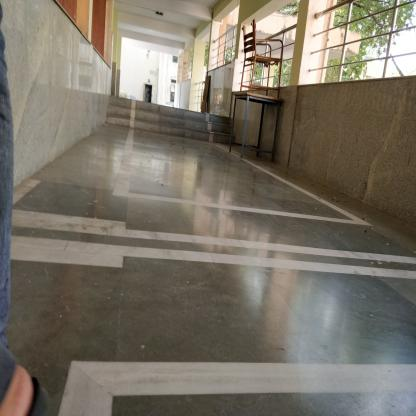stairs: (108, 109, 228, 139)
